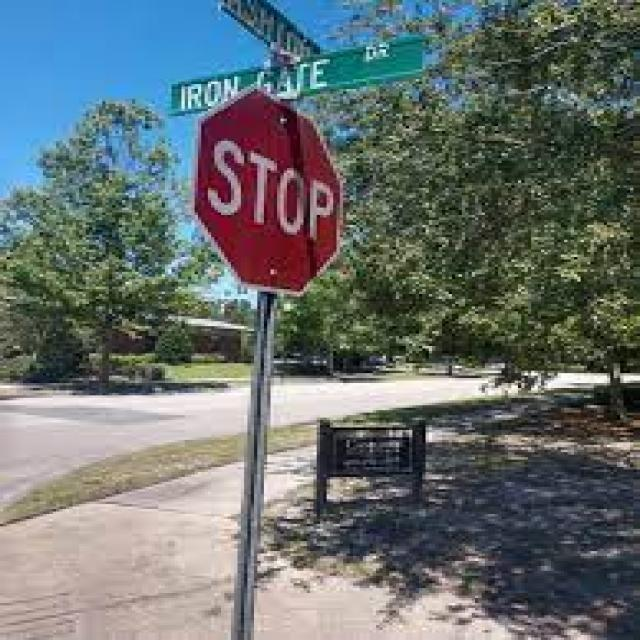Stop-Sign: (201, 91, 343, 297)
